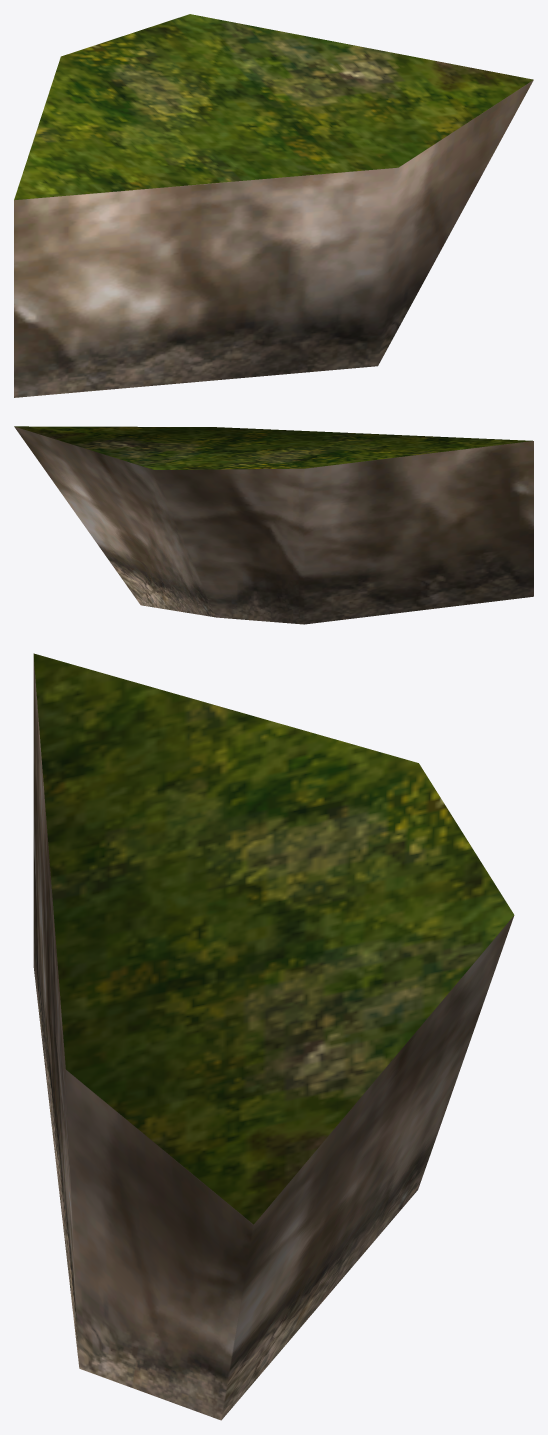
The model's file is ANIMATEDINSTANCES_OH_ROCKFALL_202__AI.obj.
3 renders of one model, top to bottom at view 1: azimuth 30°, elevation 25°; view 2: azimuth 150°, elevation 25°; view 3: azimuth 270°, elevation 25°, orthographic. The views are drawn at different scales.
Parts seen in each view (by area): view 1: ockfall_202__AI; view 2: ockfall_202__AI; view 3: ockfall_202__AI.
Boxes of the visible parts, x1,y1,x2,y2 form: ockfall_202__AI: [14, 14, 533, 397]; ockfall_202__AI: [14, 426, 533, 624]; ockfall_202__AI: [33, 653, 514, 1420].
Bounding box in the file's own units: 162 × 74.99 × 72.72.
